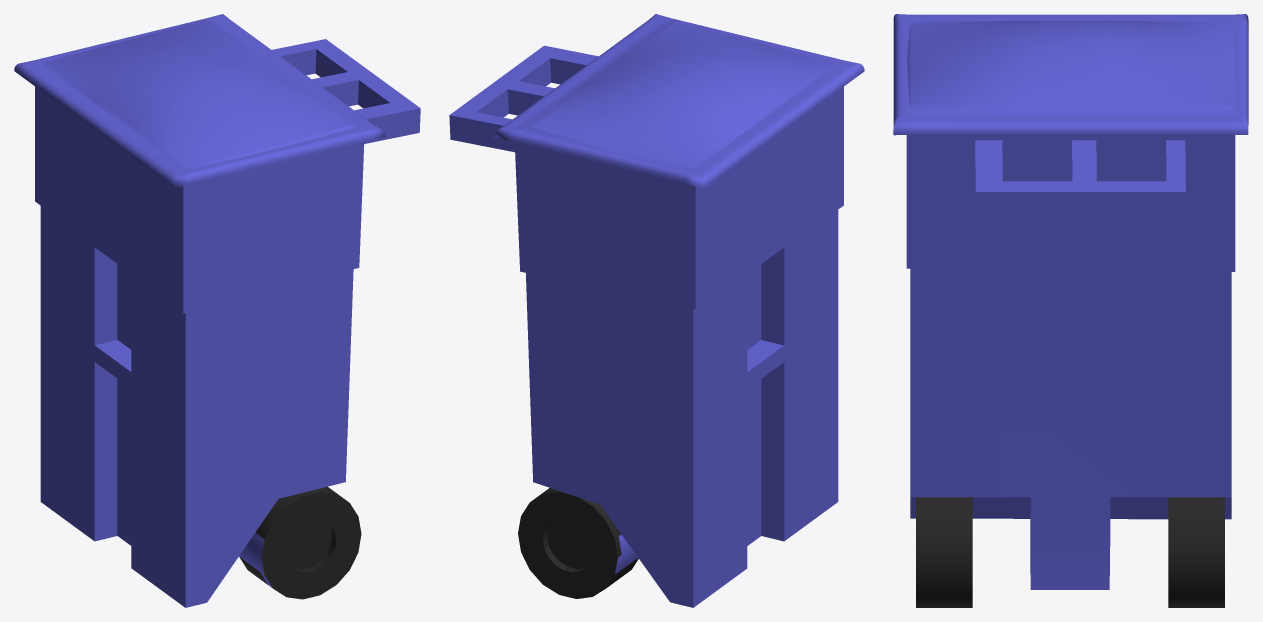
File: trashcan.gltf
3 renders of one model, left to right at view 1: azimuth 30°, elevation 25°; view 2: azimuth 150°, elevation 25°; view 3: azimuth 270°, elevation 25°, orthographic. The views are drawn at different scales.
Parts seen in each view (by area): view 1: Cylinder005; view 2: Cylinder005; view 3: Cylinder005.
Boxes of the visible parts, x1=… form: Cylinder005: x1=14, y1=14, x2=420, y2=607; Cylinder005: x1=449, y1=14, x2=864, y2=607; Cylinder005: x1=893, y1=14, x2=1248, y2=607.
Size of the model in its own units: 0.8335 by 1.36 by 0.8164.
